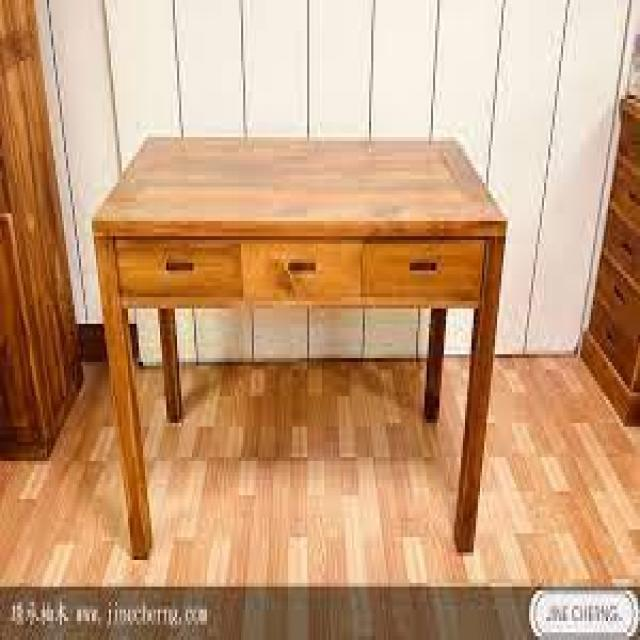mobile-phone: (90, 126, 506, 557)
